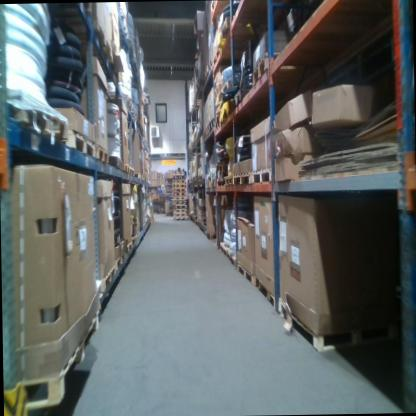pallet: (21, 307, 101, 413), (279, 295, 368, 352), (6, 104, 70, 141), (63, 123, 95, 162), (92, 16, 114, 67), (98, 257, 118, 297), (256, 277, 277, 306), (105, 92, 133, 111), (252, 51, 268, 84), (236, 263, 256, 284), (109, 151, 122, 176), (115, 246, 127, 273), (251, 168, 274, 181), (95, 143, 108, 166), (233, 172, 252, 186), (116, 19, 128, 37), (227, 252, 238, 269), (222, 174, 234, 187), (215, 176, 226, 190), (123, 239, 132, 256), (219, 241, 229, 256), (214, 161, 228, 171), (129, 212, 139, 226), (122, 159, 128, 176), (206, 232, 217, 240), (210, 177, 218, 187), (197, 216, 206, 224), (173, 204, 187, 209), (172, 179, 186, 184), (172, 175, 186, 180), (208, 119, 214, 130), (173, 200, 186, 205), (173, 196, 186, 201), (173, 192, 186, 197), (173, 187, 186, 192), (129, 165, 134, 177), (172, 209, 187, 213), (173, 216, 186, 220), (173, 184, 186, 188), (131, 233, 136, 243), (205, 180, 211, 188), (172, 213, 187, 216), (143, 221, 146, 228), (136, 229, 139, 236), (199, 174, 203, 179), (194, 175, 197, 180), (197, 175, 199, 181), (192, 177, 195, 181)
